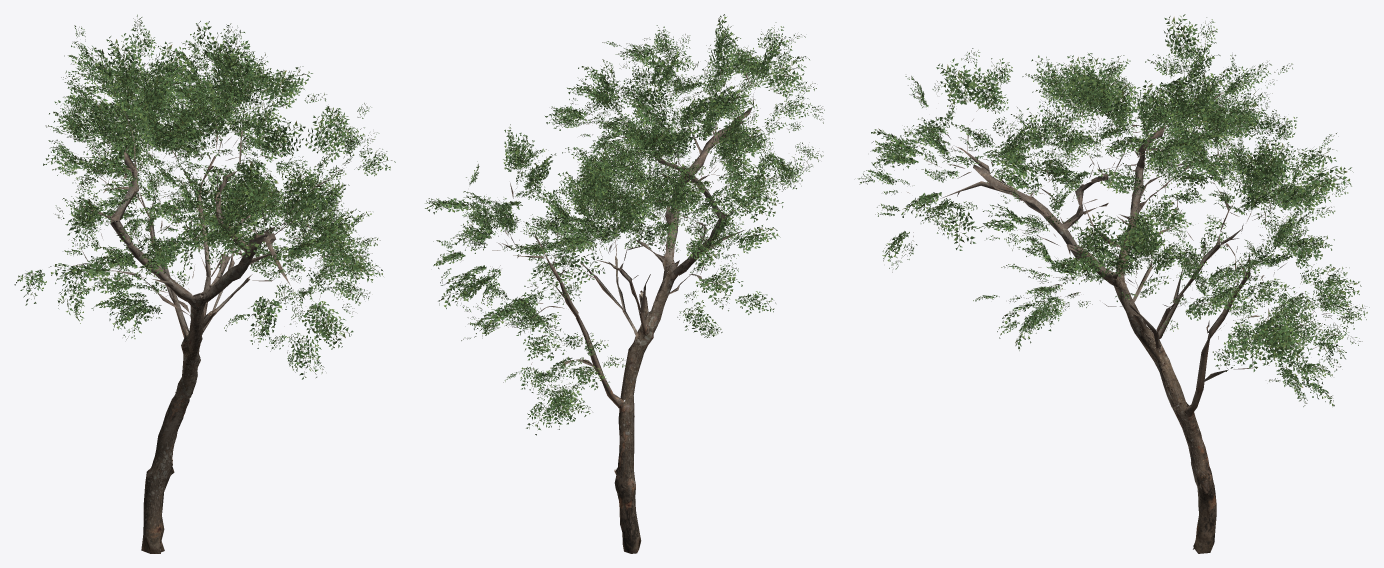
The model's file is leafy-small-tree.glb.
The picture shows the model from 3 angles, left to right: view 1: azimuth 30°, elevation 25°; view 2: azimuth 150°, elevation 25°; view 3: azimuth 270°, elevation 25°; orthographic projection. The views are drawn at different scales.
Parts seen in each view (by area): view 1: tree_small_02_LOD0; view 2: tree_small_02_LOD0; view 3: tree_small_02_LOD0.
Boxes of the visible parts, left/top/right/bottom form: tree_small_02_LOD0: left=14, top=14, right=395, bottom=553; tree_small_02_LOD0: left=425, top=14, right=824, bottom=553; tree_small_02_LOD0: left=857, top=14, right=1369, bottom=553.
Size of the model in its own units: 2.92 by 4.56 by 4.28.
3 materials, 3 textured.
